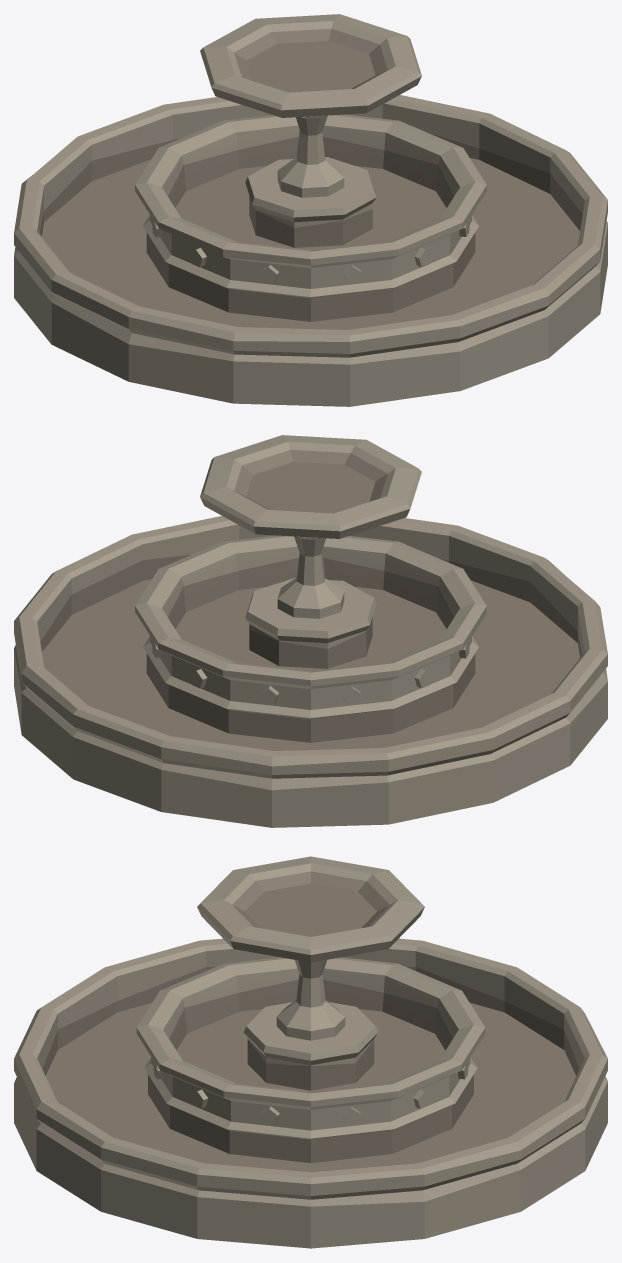
The model's file is fountain.glb.
The picture shows the model from 3 angles, top to bottom: view 1: azimuth 30°, elevation 25°; view 2: azimuth 150°, elevation 25°; view 3: azimuth 270°, elevation 25°; orthographic projection.
Visible parts, largest first — view 1: SM_Env_Fountain_01; view 2: SM_Env_Fountain_01; view 3: SM_Env_Fountain_01.
Part boxes in pixels (x1,y1,x2,y2): SM_Env_Fountain_01: (14,14,607,406); SM_Env_Fountain_01: (14,435,607,827); SM_Env_Fountain_01: (14,856,607,1248).
Bounding box in the file's own units: 5.24 × 2.17 × 5.24.
1 material, 1 textured.
